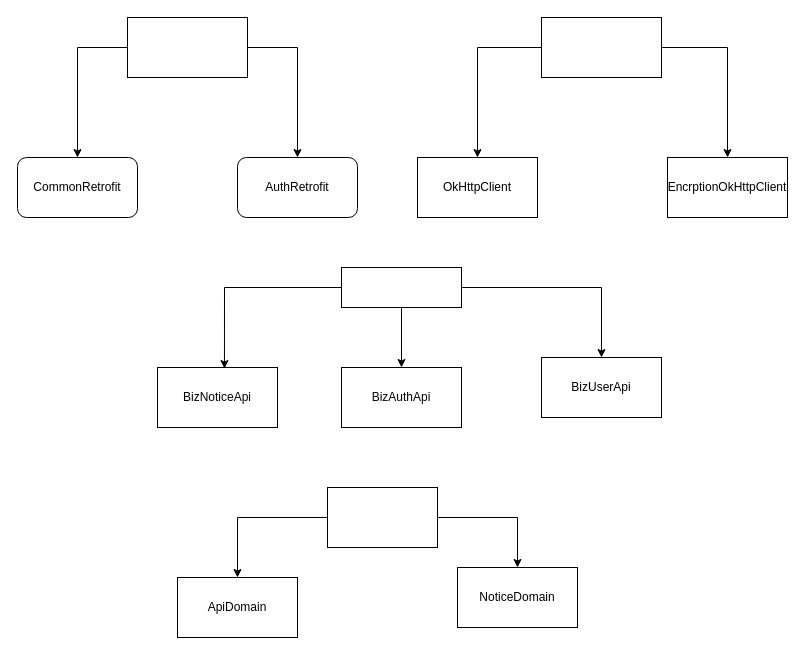
Some shapes in this 805 by 655 pixel diagram are drawn without their labels. The centre of each missing label's shape, as x and y in pixels:
BaseApi: pixel 401 287
BaseNetDomain: pixel 382 517
BaseOkHttpClient: pixel 601 47
BaseRetrofit: pixel 187 47
